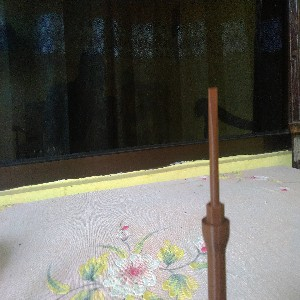obeng: (201, 86, 231, 300)
